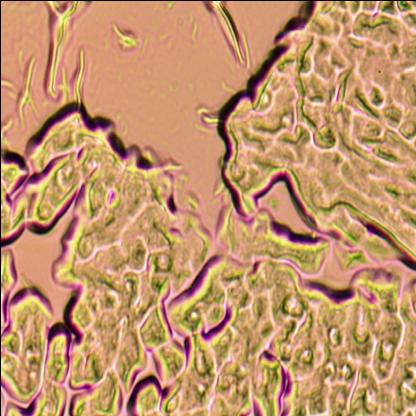Stage I: (0, 138, 416, 416), (280, 0, 416, 416)
